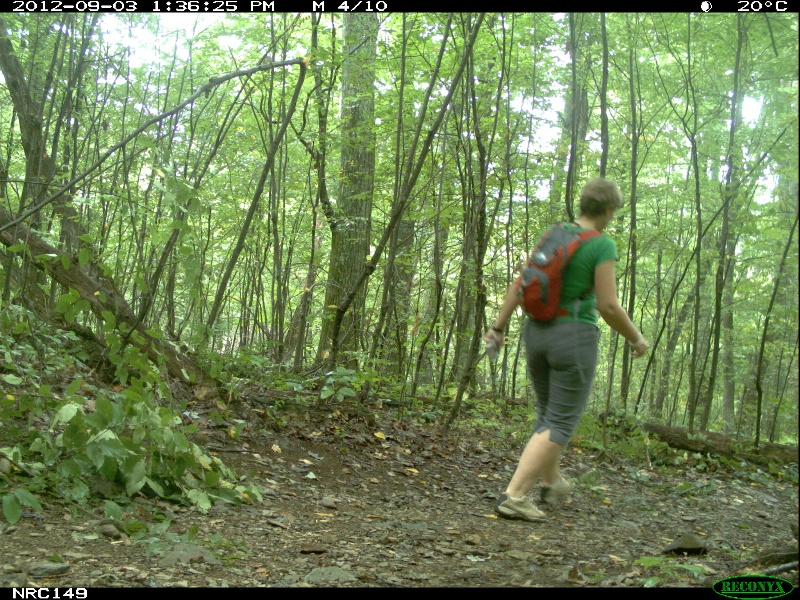human: (485, 177, 651, 527)
human legs: (503, 318, 605, 530)
